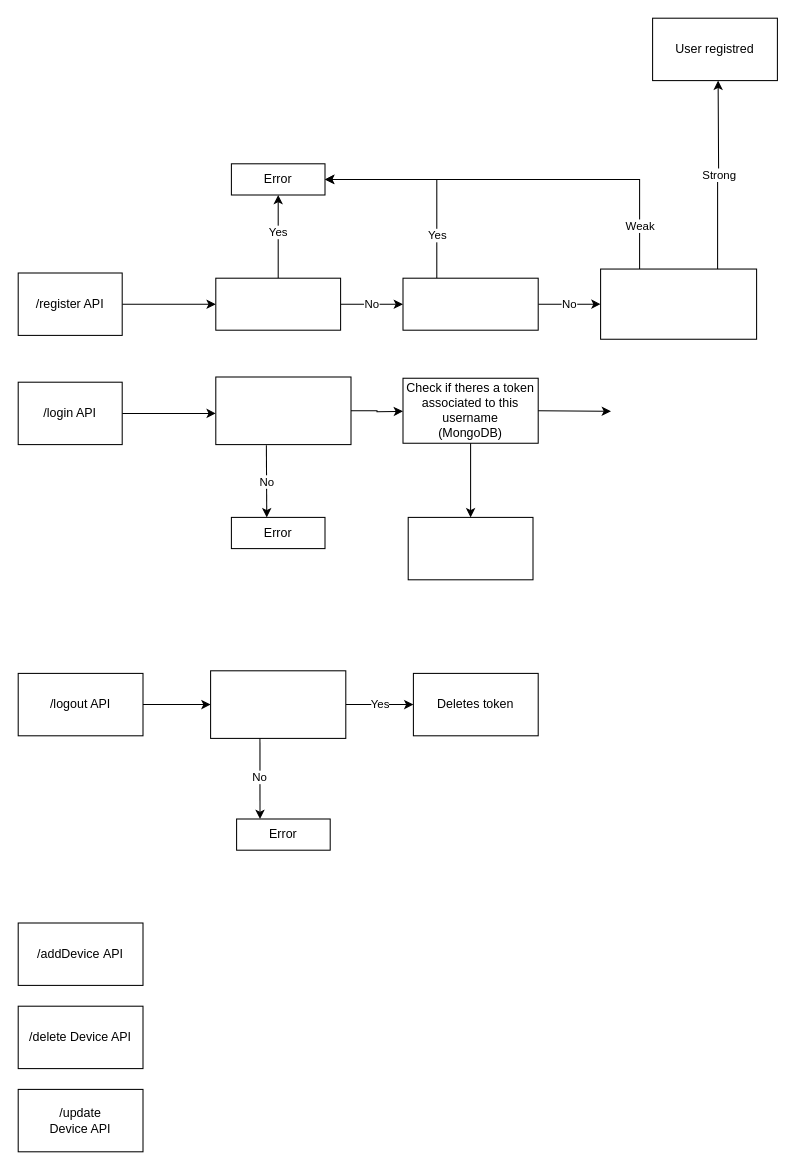
This 796x1170 diagram has some shape labels left out. Here are the shapes that lost their labels. From the top down, the centre of each, then its label:
At (278,303): "Check User Email Exists (MongoDB)".
At (470,303): "Check User name Exists (MongoDB)".
At (678,303): "Checks password strength function checkPasswordStrentgh()".
At (283,410): "Check user name exists and password matches (MongoDB)".
At (470,548): "Creates new token to this user".
At (278,704): "Check user name and token exists (MongoDB)".
